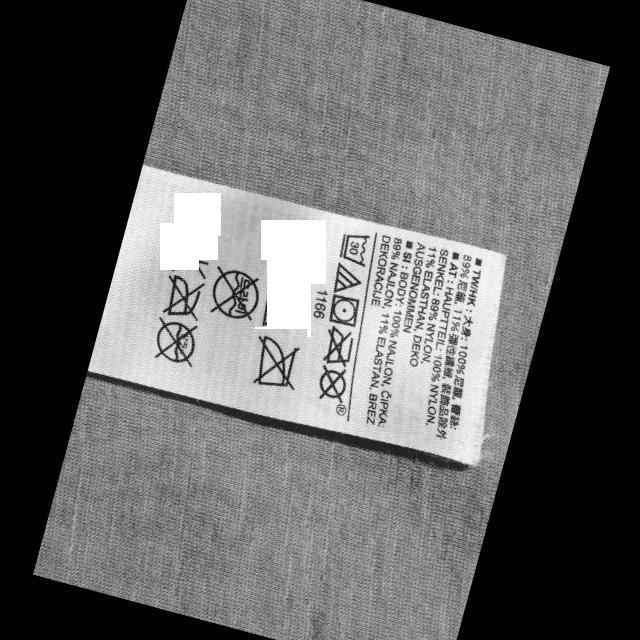30C: (333, 226, 372, 268)
DN_dry_clean: (200, 260, 266, 326), (144, 312, 202, 370), (313, 362, 352, 406)
DN_iron: (242, 329, 306, 398), (154, 270, 208, 327), (316, 322, 358, 370)
non_chlorine_bleach: (326, 260, 366, 300)
tumble_dry_low: (324, 290, 363, 329)
